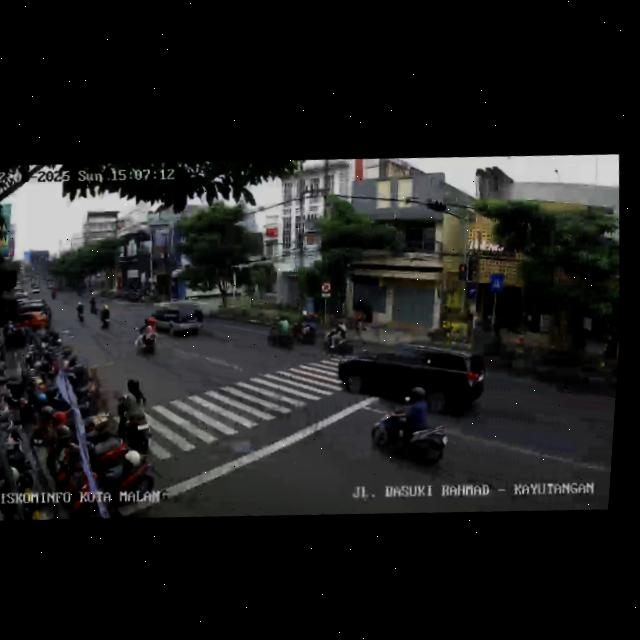car: (332, 330, 489, 425), (144, 296, 206, 342), (7, 296, 53, 336)
motorcycle: (364, 382, 456, 473), (112, 376, 155, 452), (263, 311, 298, 351), (132, 311, 161, 355), (291, 310, 320, 347), (322, 318, 350, 354), (96, 300, 114, 332), (72, 297, 88, 326)
